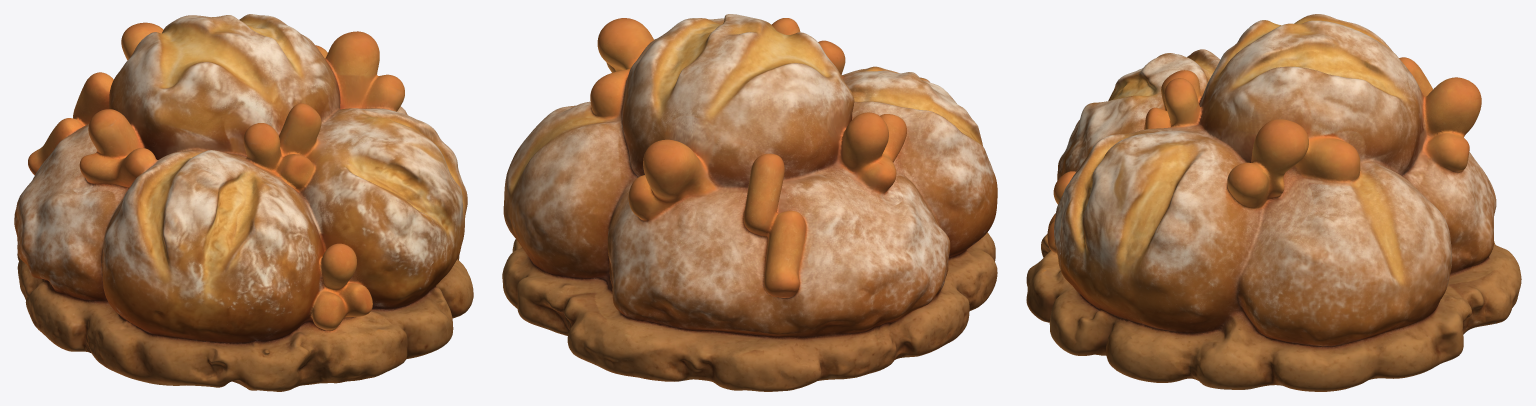
The model's file is monument-golden-bloom.glb.
The picture shows the model from 3 angles, left to right: view 1: azimuth 30°, elevation 25°; view 2: azimuth 150°, elevation 25°; view 3: azimuth 270°, elevation 25°; orthographic projection. The views are drawn at different scales.
Bounding box in the file's own units: 1.79 × 1.19 × 1.9.
Materials: 1 (1 with a texture image).
